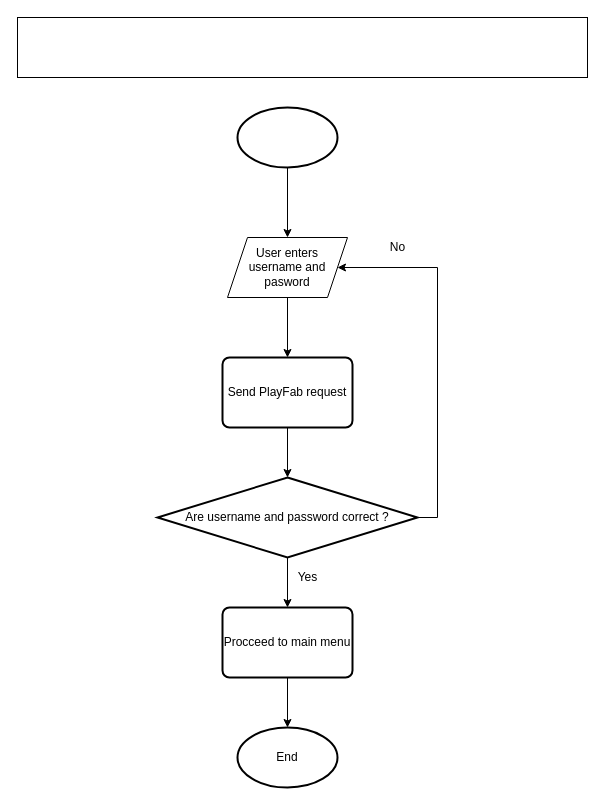
Some shapes in this 605 by 806 pixel diagram are drawn without their labels. The centre of each missing label's shape, as x and y in pixels:
Authentication flowchart diagram: (x=302, y=47)
Start: (x=287, y=137)
